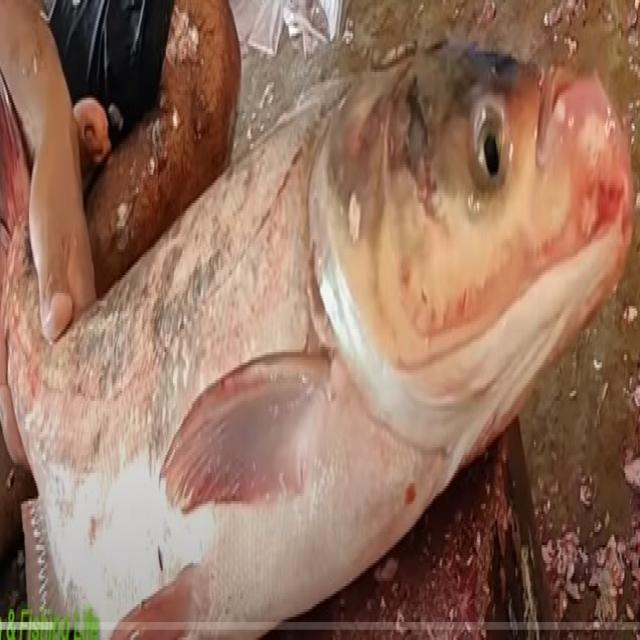Big-Head-Carp: (11, 28, 640, 586)
